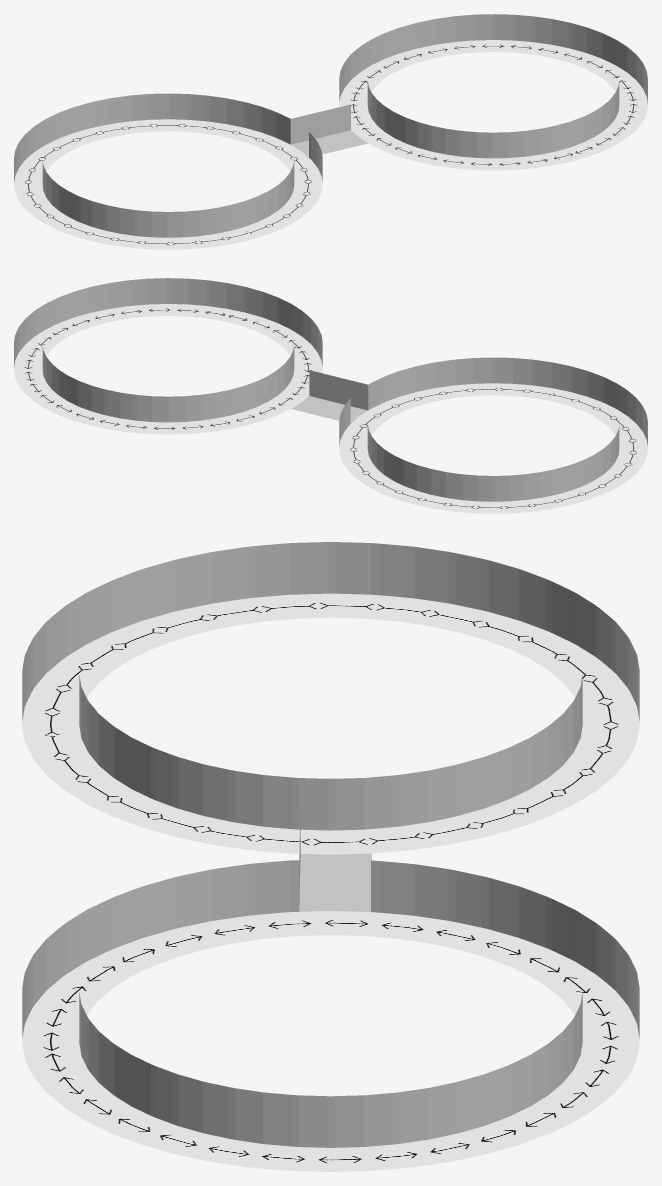
3 views of the same model, one above another, from view 1: azimuth 30°, elevation 25°; view 2: azimuth 150°, elevation 25°; view 3: azimuth 270°, elevation 25° (orthographic). The views are drawn at different scales.
Parts seen in each view (by area): view 1: Long&Short; view 2: Long&Short; view 3: Long&Short.
Boxes of the visible parts, box(x1,y1,x2,y2) form: Long&Short: box(14, 14, 647, 249); Long&Short: box(14, 278, 647, 513); Long&Short: box(22, 542, 639, 1171).
Size of the model in its own units: 77.27 by 3.22 by 34.86.
3 materials, 2 textured.
